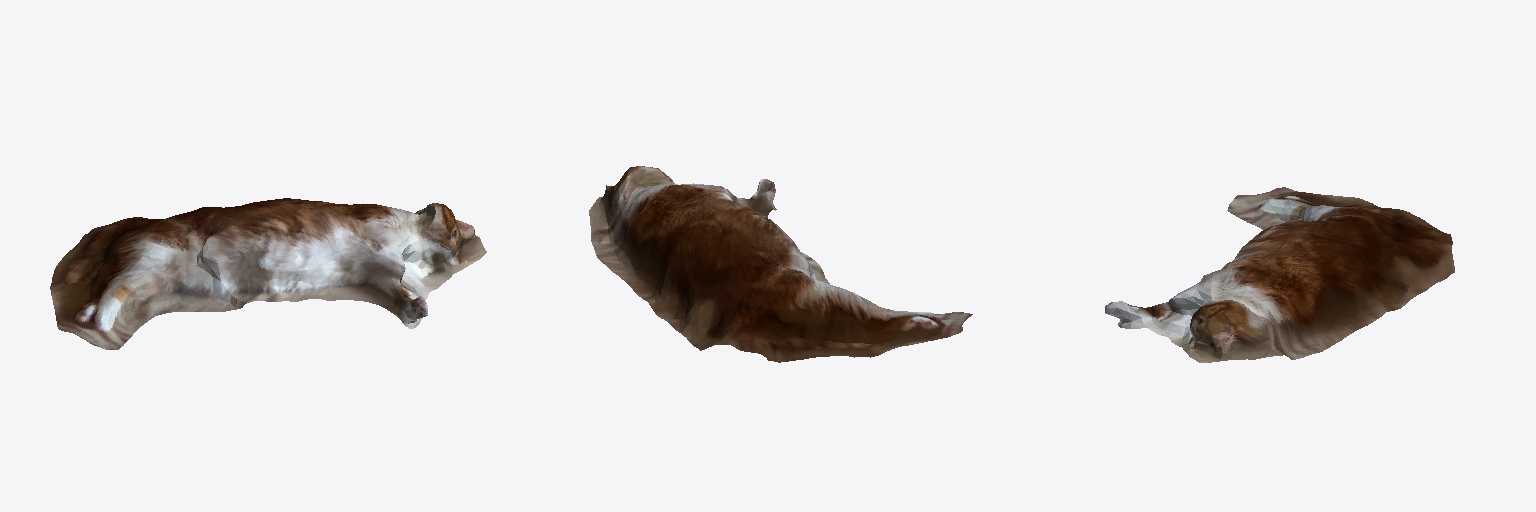
3 renders of one model, left to right at view 1: azimuth 30°, elevation 25°; view 2: azimuth 150°, elevation 25°; view 3: azimuth 270°, elevation 25°, orthographic.
Visible parts, largest first — view 1: Default; view 2: Default; view 3: Default.
Boxes of the visible parts, <box> form: Default: <box>50,198,486,349</box>; Default: <box>589,166,972,362</box>; Default: <box>1105,187,1454,362</box>.
Size of the model in its own units: 6.72 by 1.18 by 5.2.
1 materials, 1 textured.